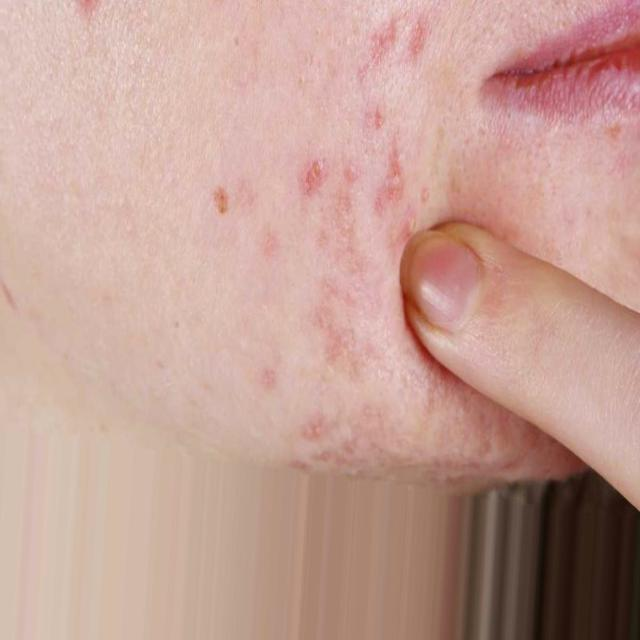acne: (362, 146, 432, 266), (372, 17, 430, 108), (292, 146, 340, 240), (201, 165, 241, 269)
